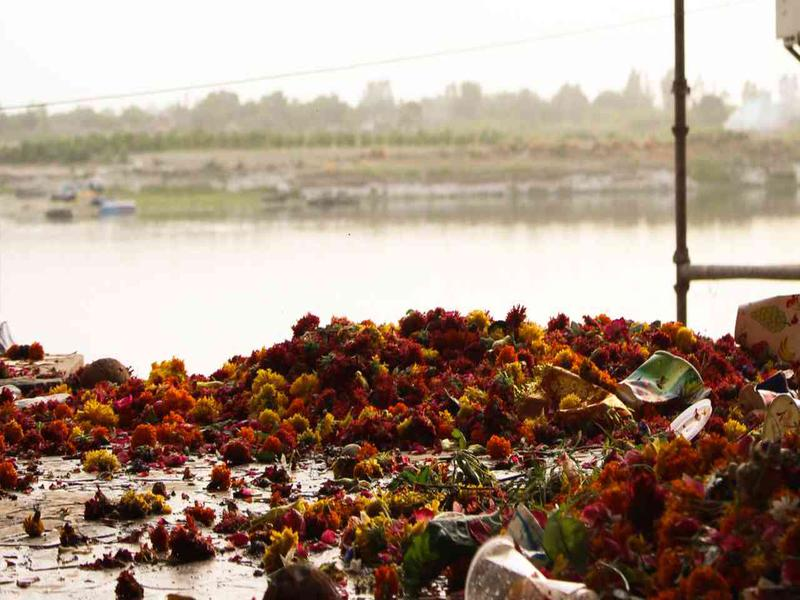flowers: (1, 304, 800, 600)
